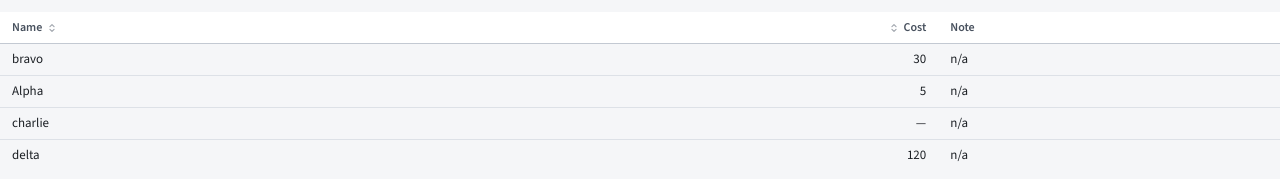
Scenario: DataTable › sorts by clicking a header and reflects it in aria-sort
Step 1. Click the button "Name" → (35, 28), box [8, 16, 62, 40]
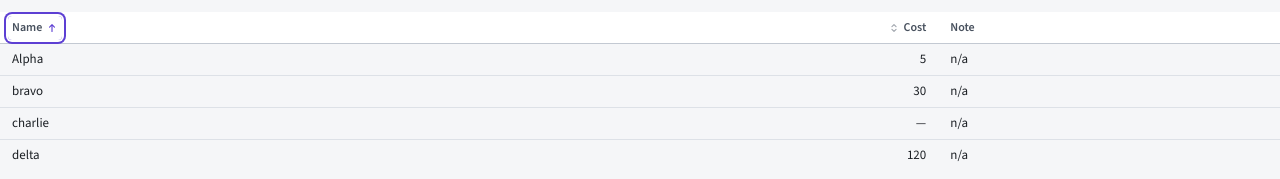
Expected: the column heading "Name" has attribute aria-sort="ascending", [0, 12, 496, 44]
Step 2. Click the button "Name" → (35, 28), box [8, 16, 62, 40]
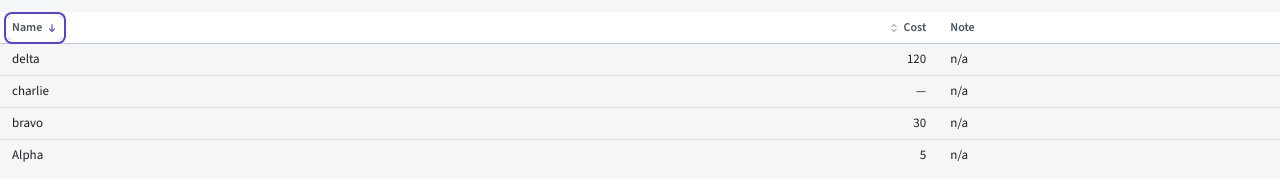
// the previously sorted column drops aria-sort when another takes over
Step 3. Click the button "Cost" → (907, 28), box [884, 16, 930, 40]
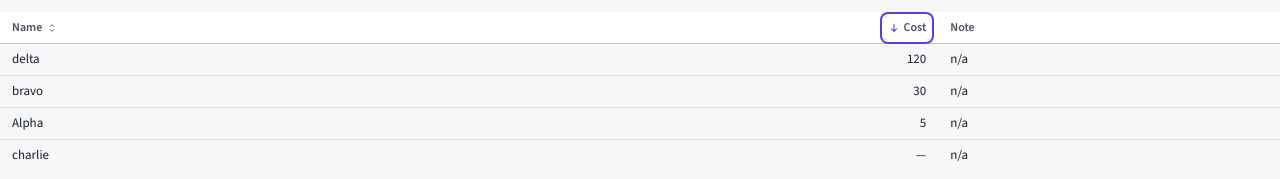
Expected: the column heading "Name" does not have attribute aria-sort, [0, 12, 496, 44]
